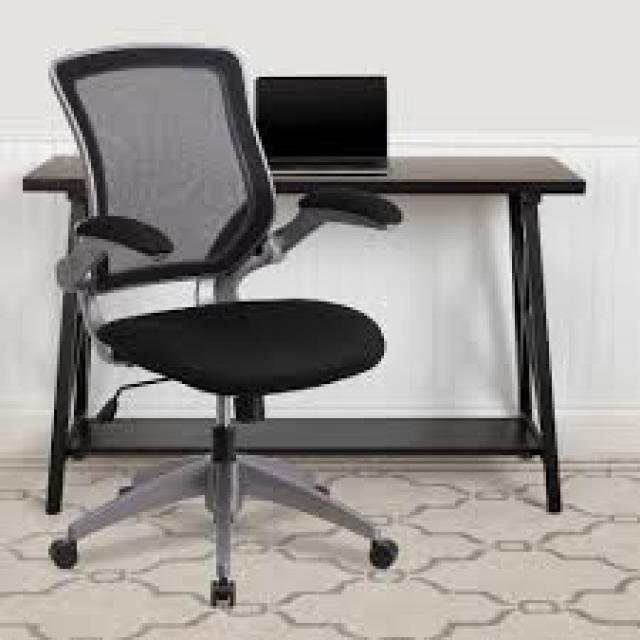chair: (28, 11, 410, 640)
